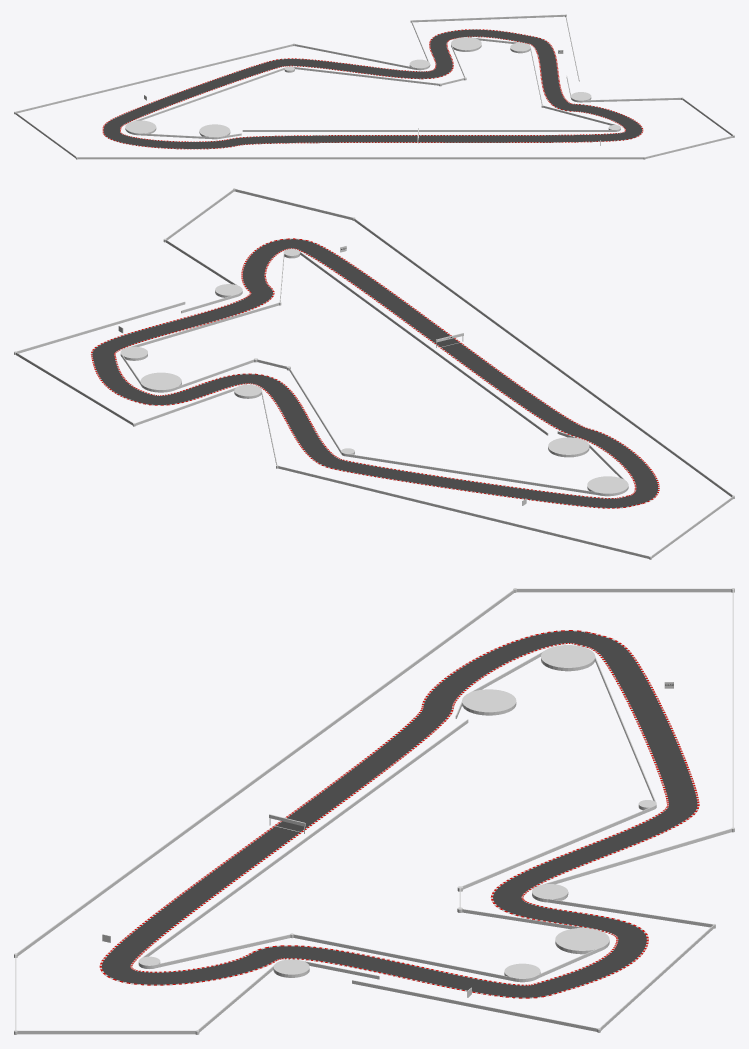
Rendered from track.glb.
3 views of the same model, one above another, from view 1: azimuth 30°, elevation 25°; view 2: azimuth 150°, elevation 25°; view 3: azimuth 270°, elevation 25° (orthographic). The views are drawn at different scales.
Parts seen in each view (by area): view 1: ToExport, Wall3, Wall5, Obstacle7, Wall9, Obstacle2, Obstacle19, Obstacle3, Obstacle14, Obstacle5, Wall6, Wall7; view 2: ToExport, Wall3, Wall5, Obstacle7, Obstacle2, Obstacle5, Obstacle14, Obstacle3; view 3: ToExport, Wall3, Obstacle7, Obstacle5, Obstacle3, Obstacle14, Wall10, Wall4, Obstacle11, Wall2, Obstacle19, Wall6 (+1 smaller).
Boxes of the visible parts, <box> form: ToExport: <box>102,29,643,149</box>; Wall3: <box>78,157,643,159</box>; Wall5: <box>16,44,293,113</box>; Obstacle7: <box>242,130,614,131</box>; Wall9: <box>412,14,565,22</box>; Obstacle2: <box>135,67,286,120</box>; Obstacle19: <box>294,67,438,85</box>; Obstacle3: <box>125,120,156,135</box>; Obstacle14: <box>451,37,481,51</box>; Obstacle5: <box>199,124,230,139</box>; Wall6: <box>294,44,415,69</box>; Wall7: <box>584,97,682,102</box>; ToExport: <box>90,238,659,508</box>; Wall3: <box>354,218,733,496</box>; Wall5: <box>277,465,649,558</box>; Obstacle7: <box>299,251,548,435</box>; Obstacle2: <box>346,454,598,494</box>; Obstacle5: <box>548,437,589,457</box>; Obstacle14: <box>140,372,181,392</box>; Obstacle3: <box>587,476,628,496</box>; ToExport: <box>99,630,699,998</box>; Wall3: <box>16,588,515,955</box>; Obstacle7: <box>141,719,468,958</box>; Obstacle5: <box>462,689,516,715</box>; Obstacle3: <box>541,645,594,671</box>; Obstacle14: <box>555,928,609,954</box>; Wall10: <box>352,980,598,1031</box>; Wall4: <box>516,588,731,592</box>; Obstacle11: <box>293,934,513,981</box>; Wall2: <box>17,1030,196,1034</box>; Obstacle19: <box>462,805,655,889</box>; Wall6: <box>542,828,732,884</box>.
Size of the model in its own units: 578 by 6.61 by 397.
